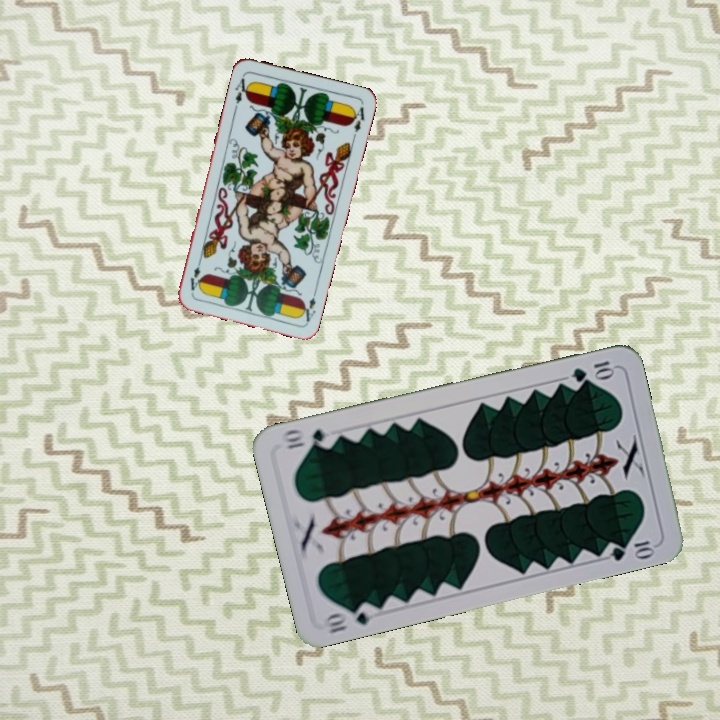EA: (230, 71, 253, 111), (297, 285, 320, 324)
G10: (321, 599, 377, 637), (568, 356, 617, 385)
